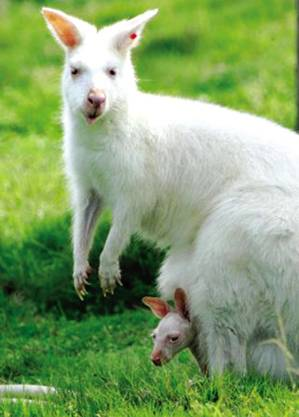kangaroo: (36, 3, 299, 388), (132, 286, 210, 369)
